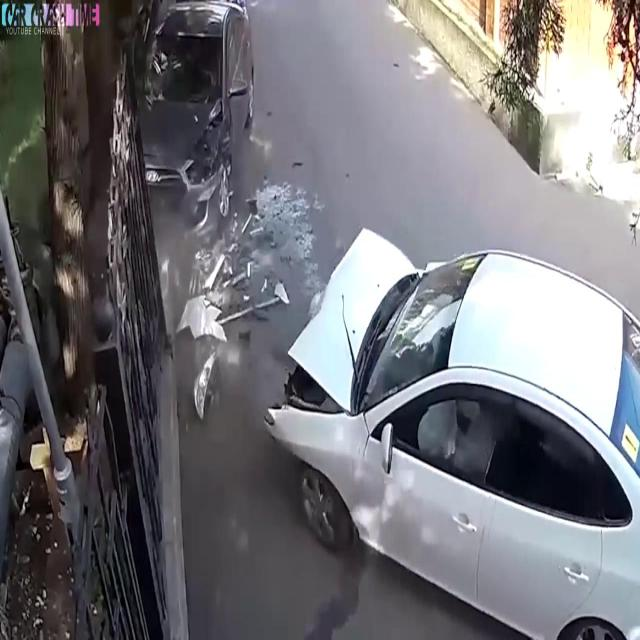accident: (258, 187, 640, 638), (140, 5, 255, 415)
